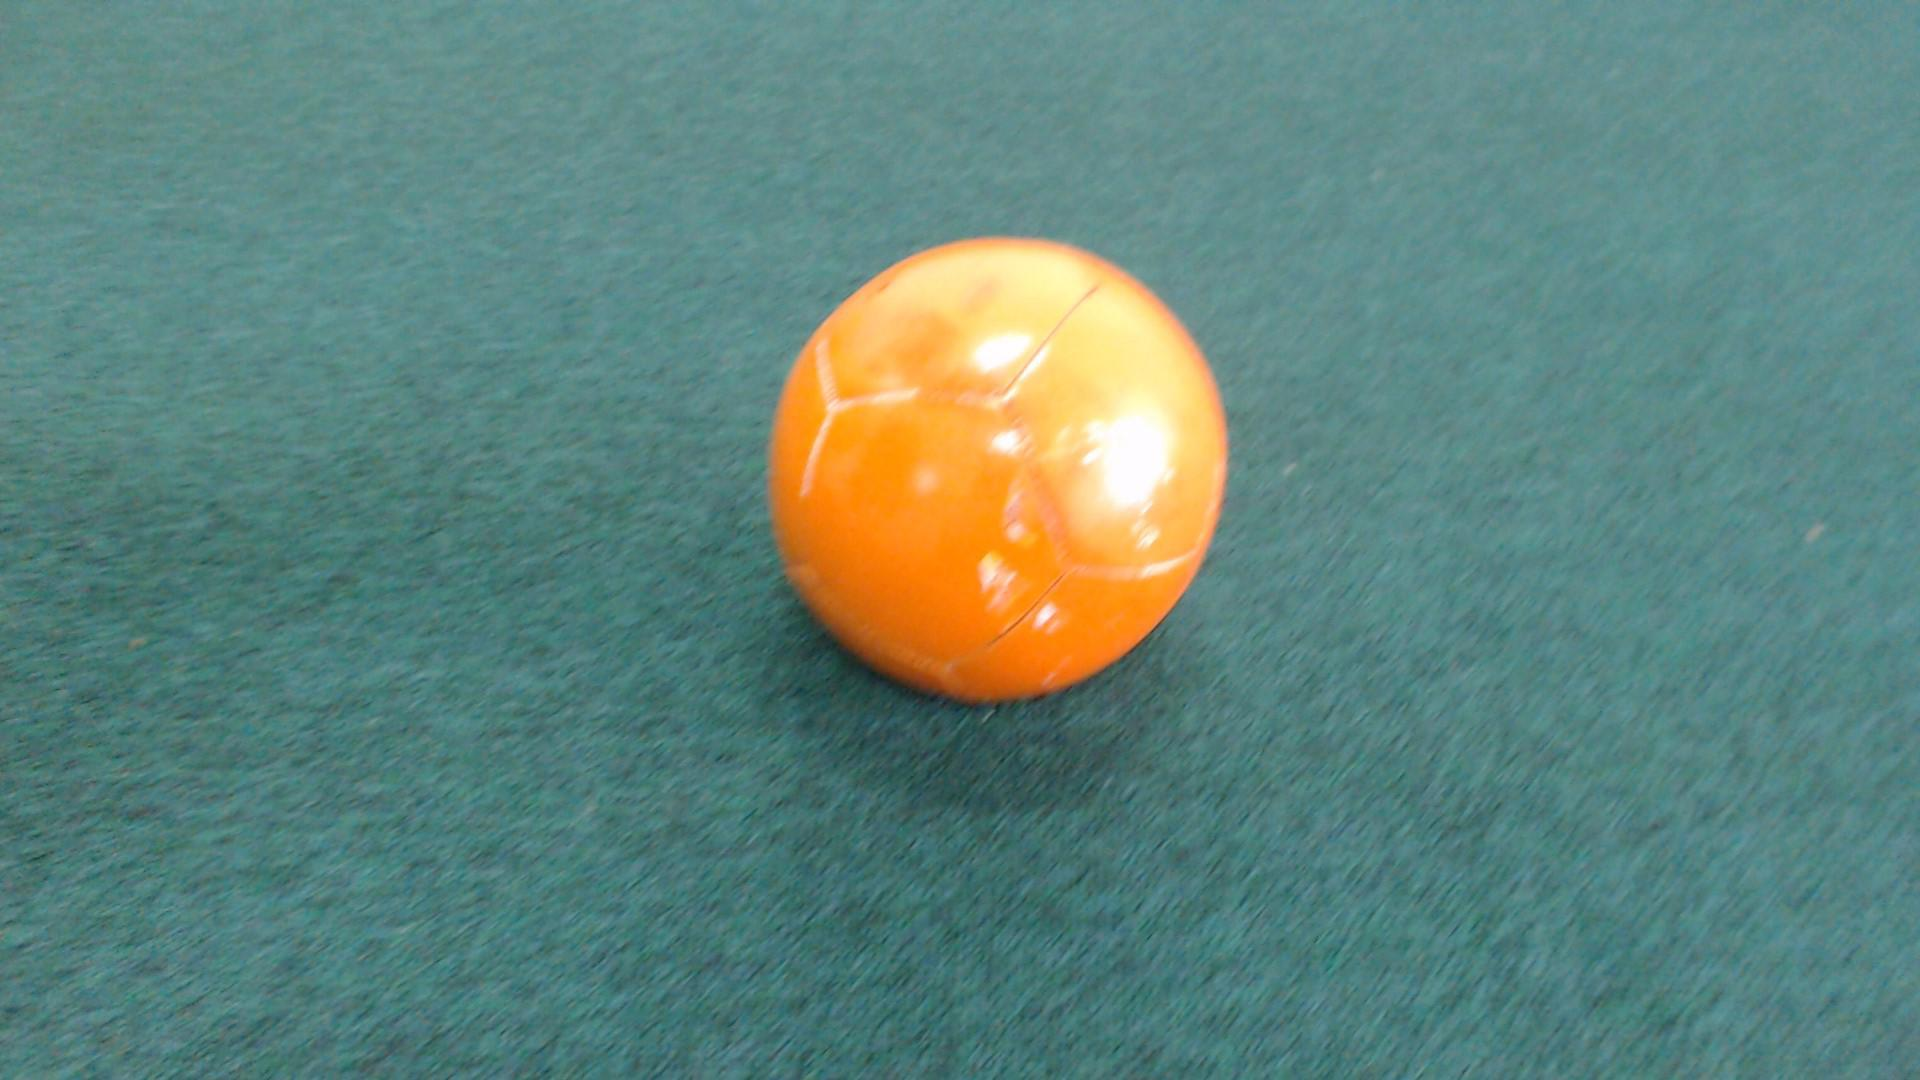bola: (724, 231, 1271, 733)
